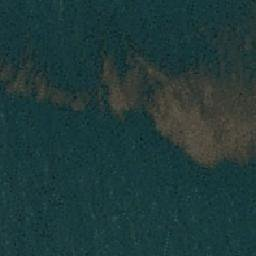debris: (148, 87, 256, 132), (2, 56, 45, 97), (100, 57, 124, 110), (121, 62, 144, 108), (167, 77, 256, 88), (164, 127, 220, 144), (181, 145, 226, 162), (218, 133, 256, 150), (56, 88, 89, 106), (144, 66, 169, 87), (225, 150, 256, 161)
